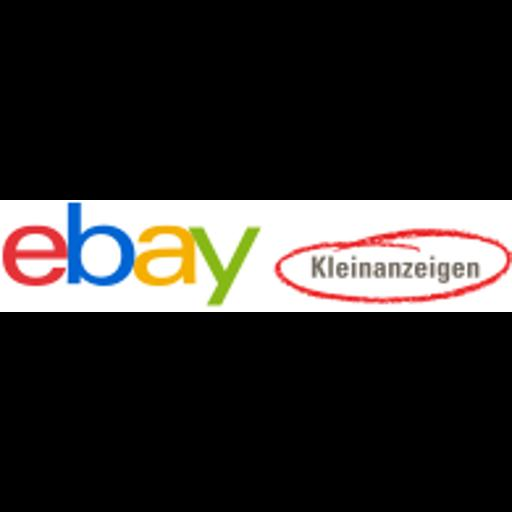eBay: (0, 200, 512, 312)
